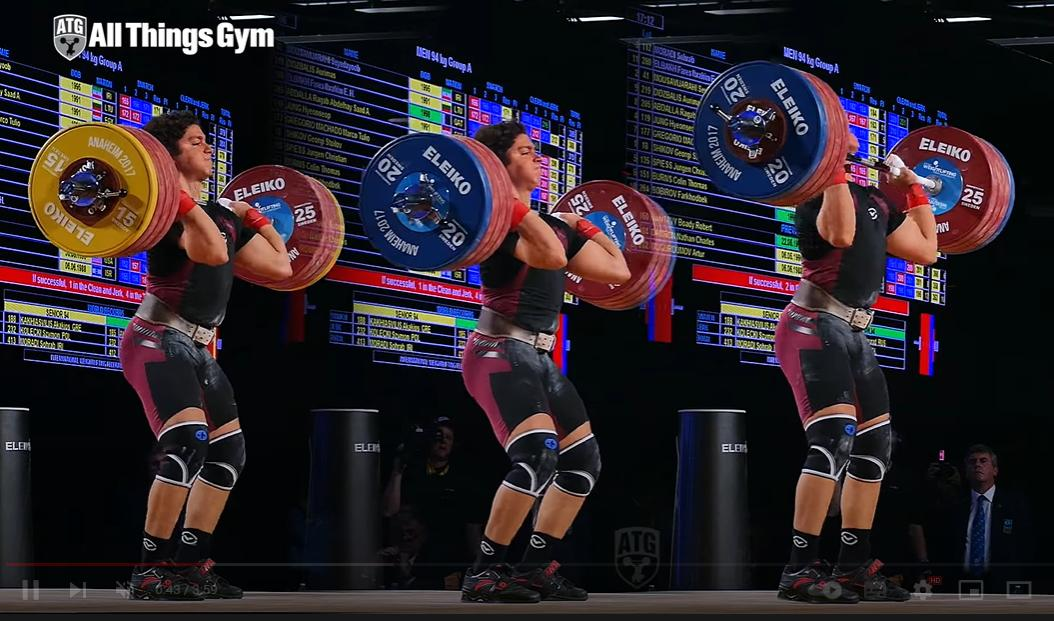Barbell: (721, 99, 776, 158), (49, 165, 115, 212), (381, 178, 442, 223)
